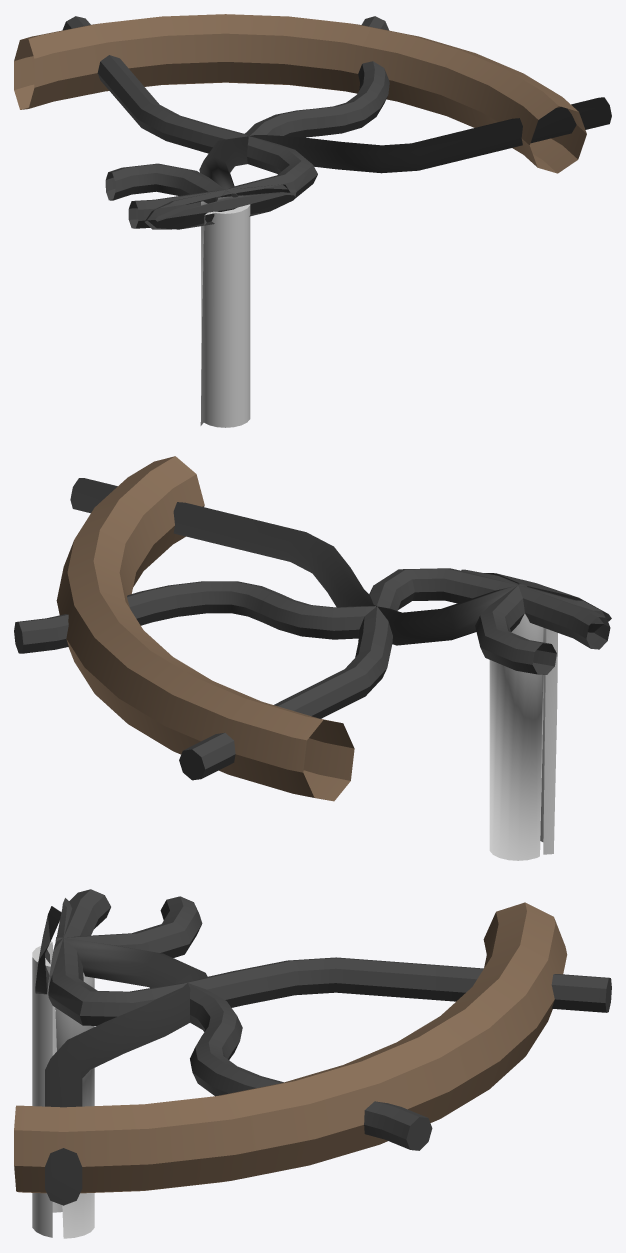
File: ValvePart.fbx
The picture shows the model from 3 angles, top to bottom: view 1: azimuth 30°, elevation 25°; view 2: azimuth 150°, elevation 25°; view 3: azimuth 270°, elevation 25°; orthographic projection. The views are drawn at different scales.
Visible parts, largest first — view 1: Shape001; view 2: Shape001; view 3: Shape001.
Part boxes in pixels (x1,y1,x2,y2): Shape001: (14, 14, 611, 427); Shape001: (14, 456, 611, 860); Shape001: (14, 889, 611, 1238).
Size of the model in its own units: 6.52 by 3.34 by 5.77.
